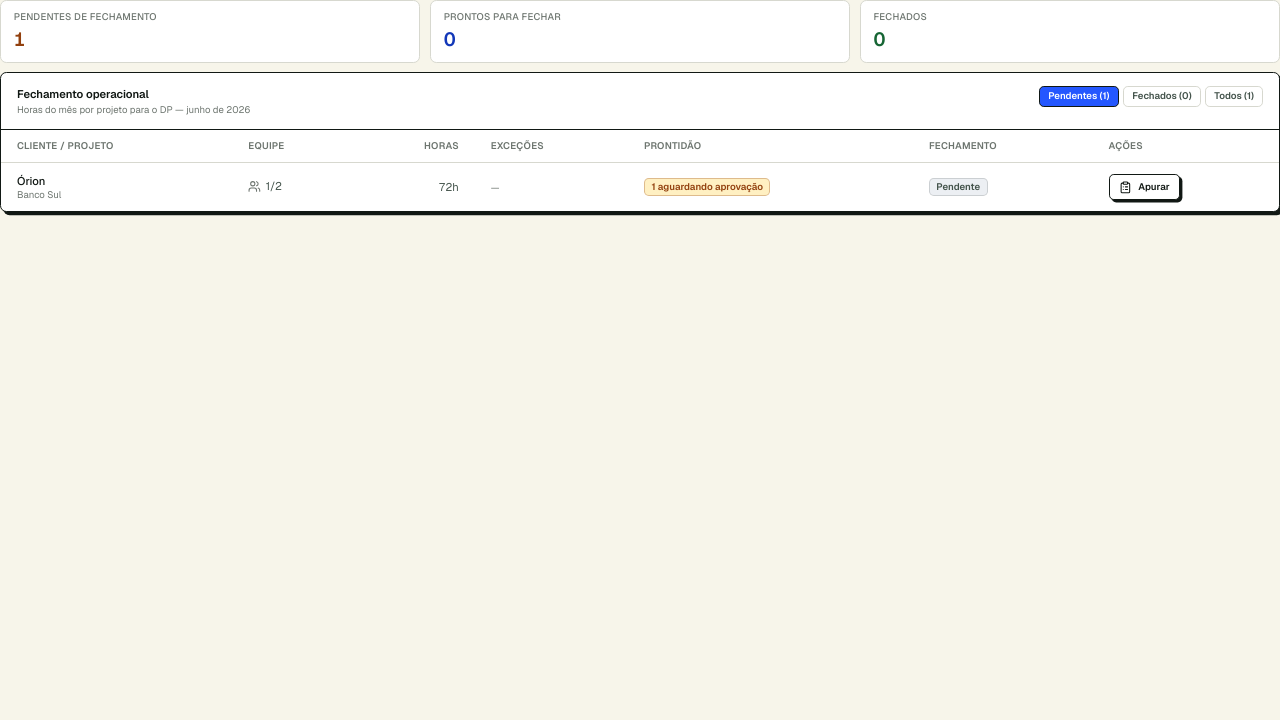
OperationClosingTable team modal deep-link › links only the PENDING_REVIEW consultant to the approvals queue
Click the button "1/2": [265, 186] box [248,178,282,194]
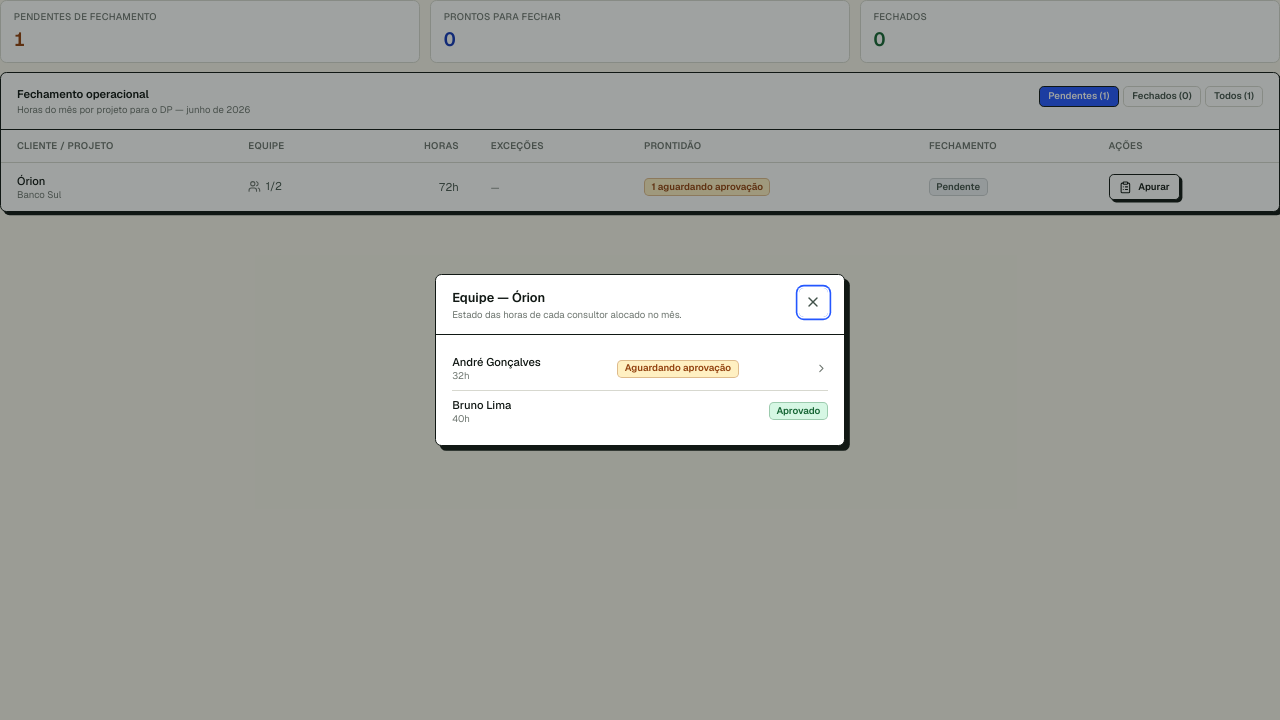
Check: the link "André Gonçalves 32h Aguardando aprovação" is shown, box [452,348,828,390]
Check: the text "Bruno Lima" is shown, box [452,397,511,413]
